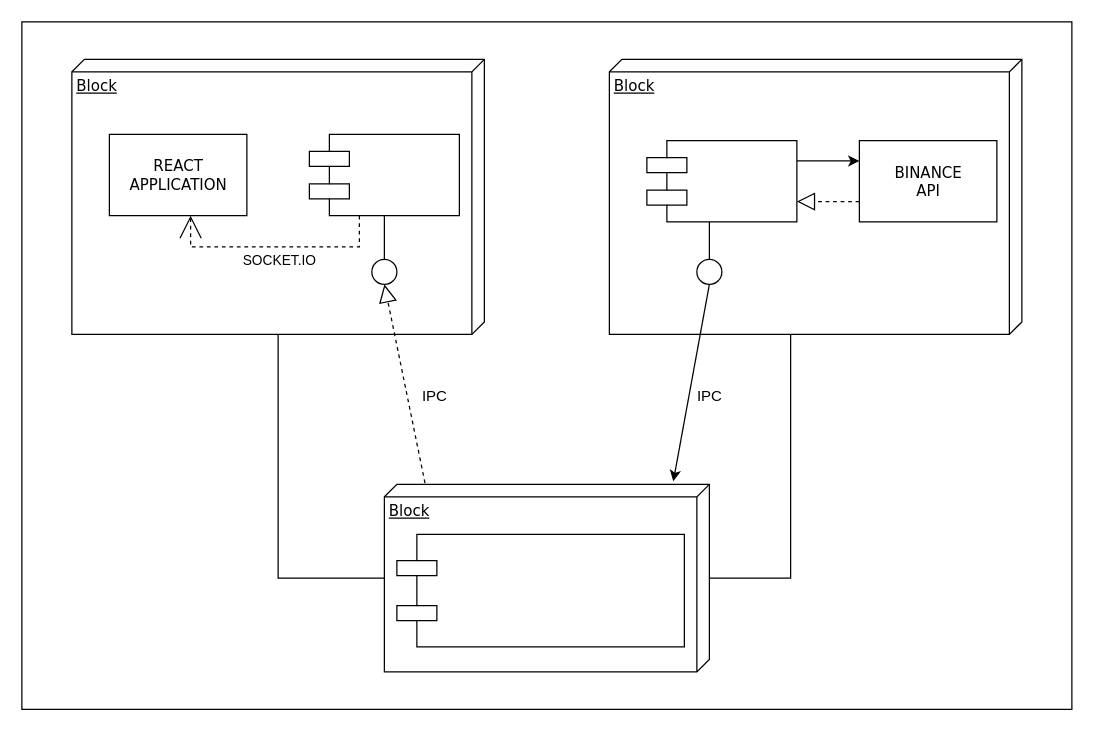
The diagram is 1094 pixels wide and 731 high, and some of its shapes have lost their labels. Each missing label, with the centre of its shape:
"BINANCE SERVICE" belongs at point 721,180.
"NODE SERVER" belongs at point 383,174.
"REDIS" belongs at point 540,590.
